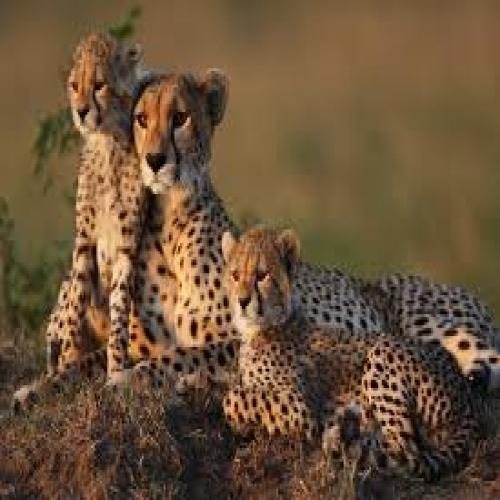cheetah-endangered: (7, 63, 495, 386), (218, 223, 484, 487), (47, 30, 148, 398)
